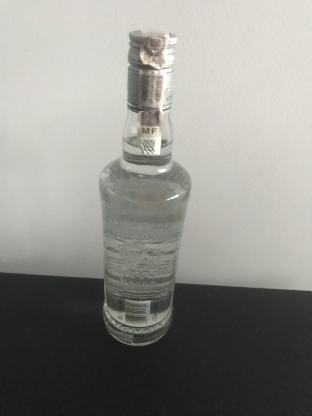nakretka: (124, 26, 178, 114)
